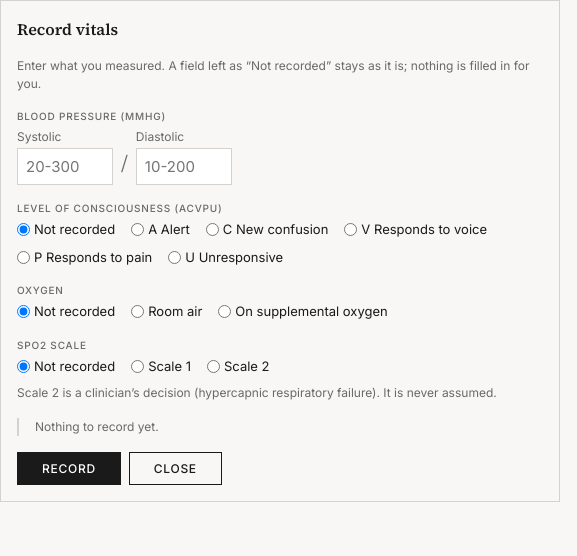
a valid draft is one request carrying only what was entered › states why a patient is still not ranked, in the server's words
Type "118" into the field labelled "Systolic" at {"x": 65, "y": 166}, box [17,148,113,185]
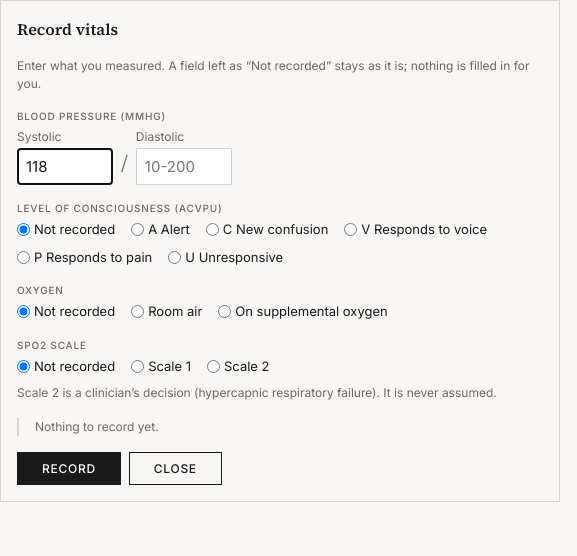
Type "74" into the field labelled "Diastolic" at {"x": 184, "y": 166}, box [136,148,232,185]
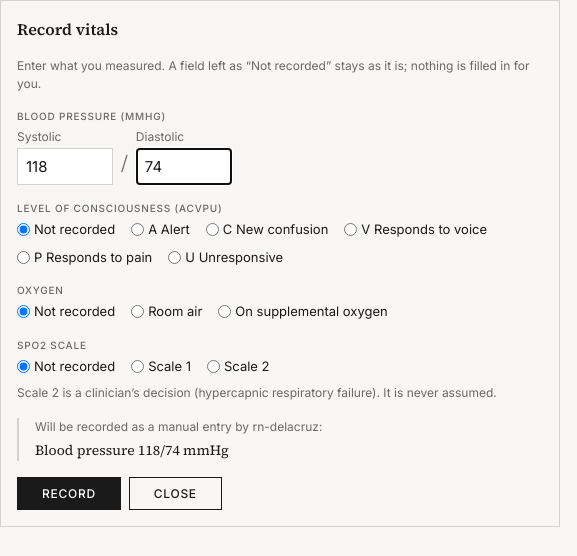
Click the button "Record" at {"x": 69, "y": 494}, box [17,477,121,510]
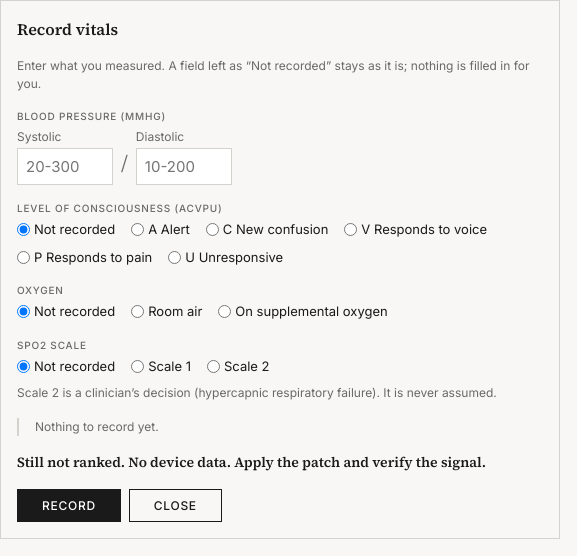
Expected: the text "Still not ranked. No device data. Apply the patch and verify the signal." is shown, [17,452,543,473]
